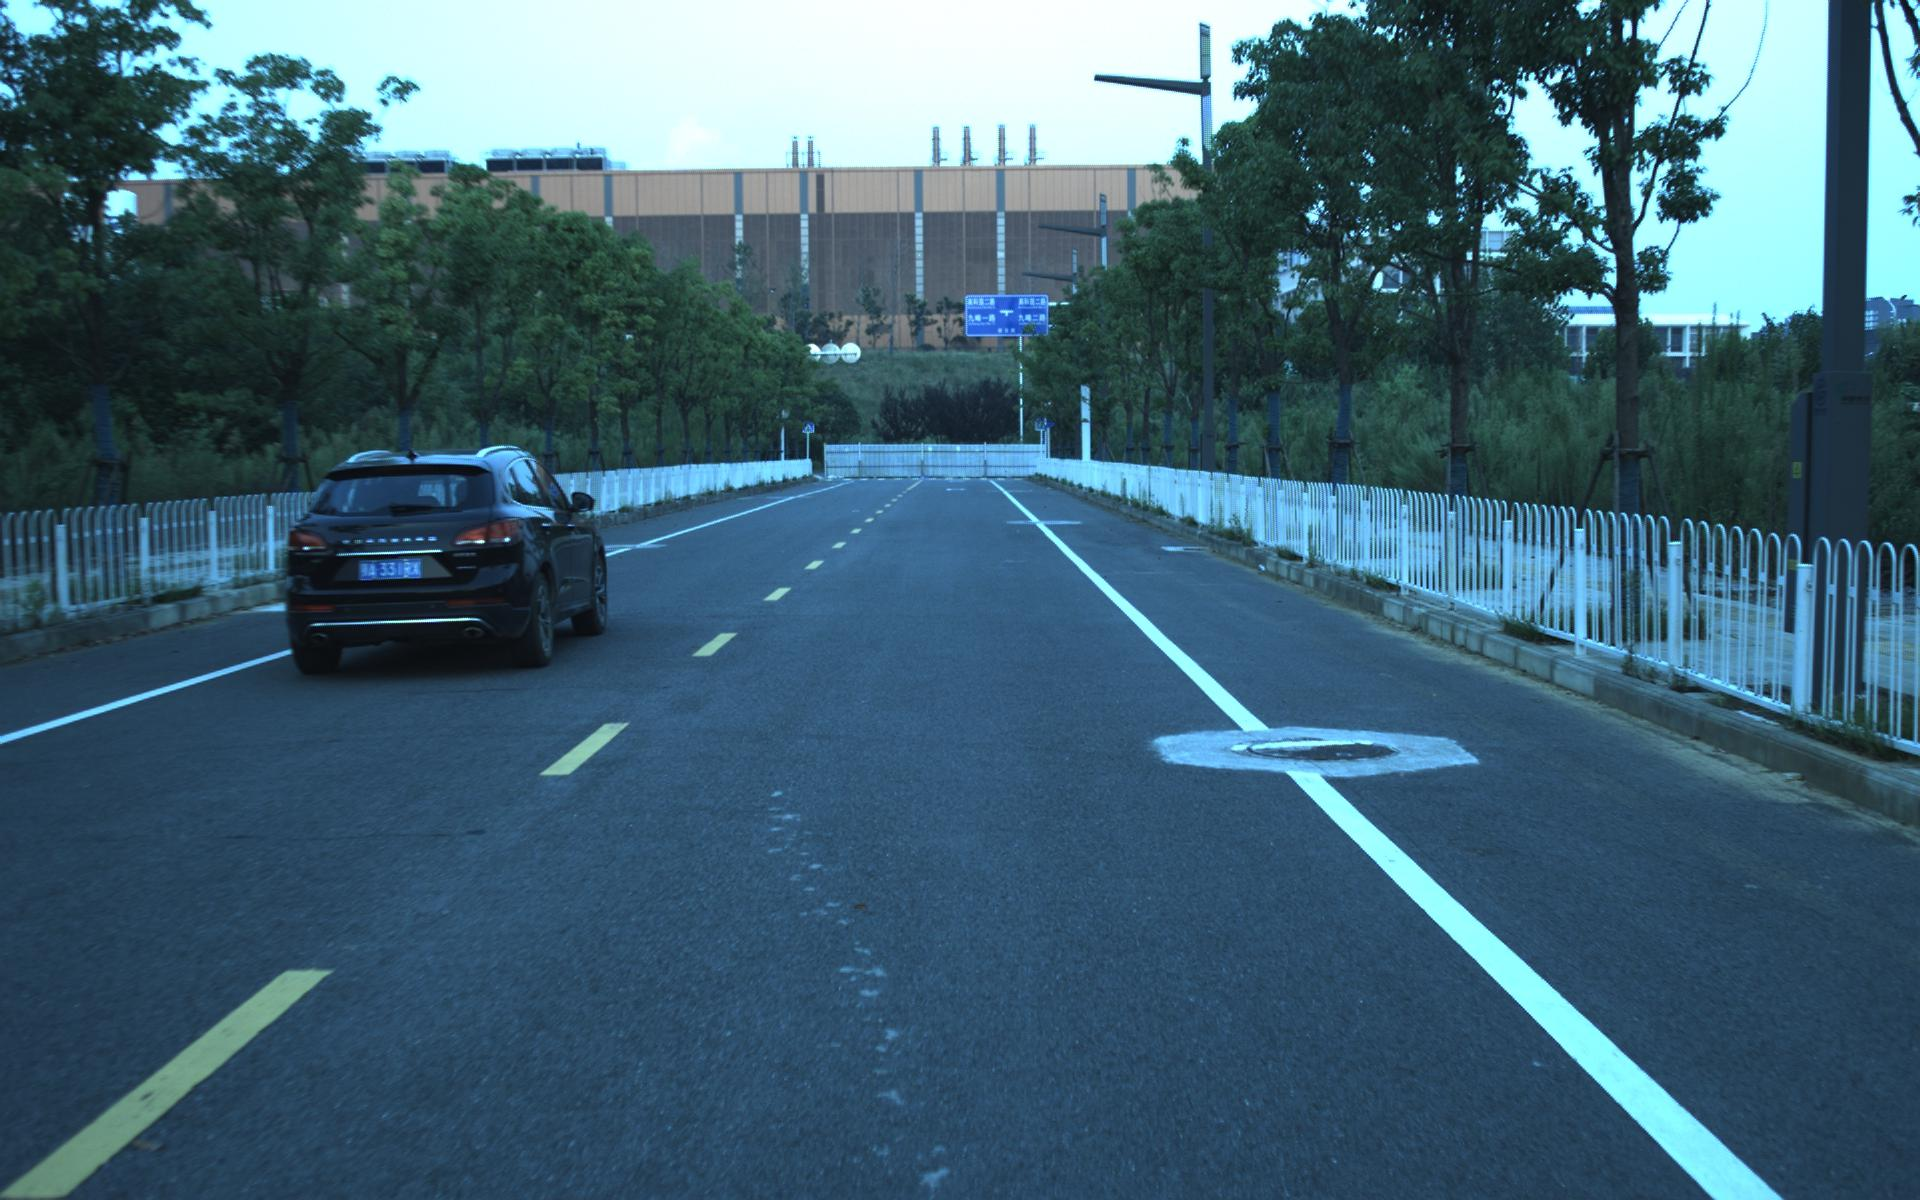Car: (265, 440, 614, 679)
